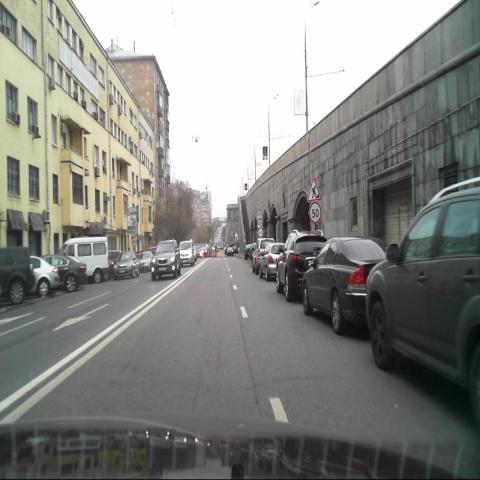1_25: (306, 177, 322, 201)
3_24: (308, 200, 322, 224)
